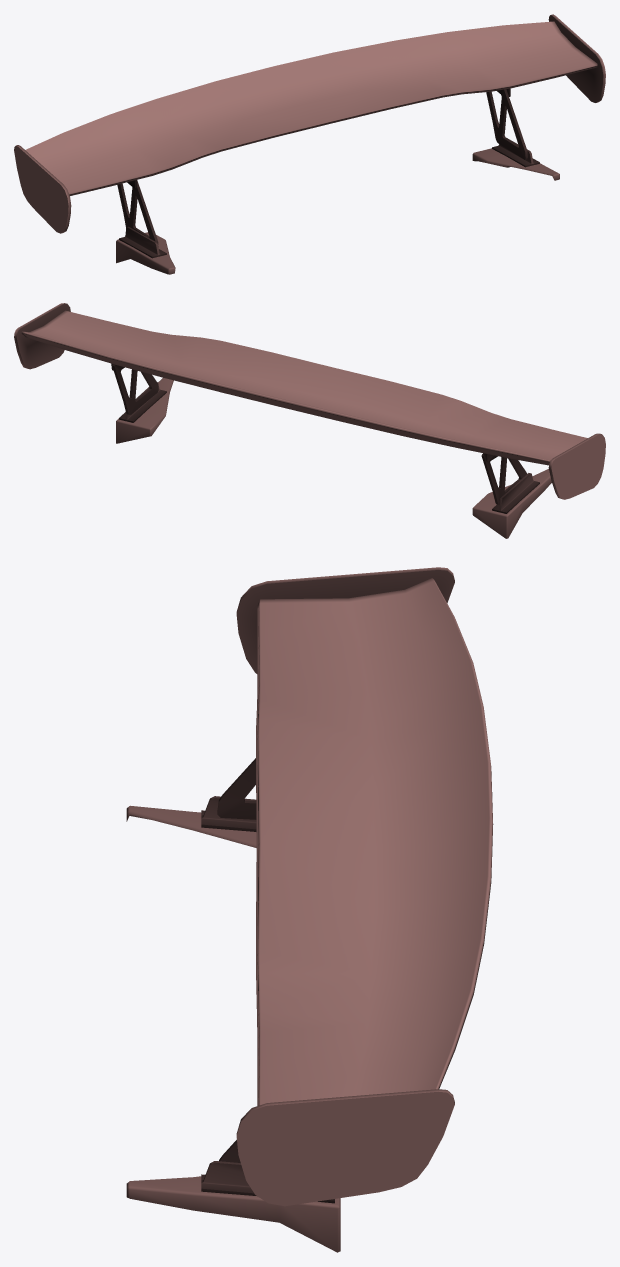
File: G37_Spoiler_06_Trim.fbx
The picture shows the model from 3 angles, top to bottom: view 1: azimuth 30°, elevation 25°; view 2: azimuth 150°, elevation 25°; view 3: azimuth 270°, elevation 25°; orthographic projection. The views are drawn at different scales.
Parts seen in each view (by area): view 1: G37_Spoiler_06_Trim; view 2: G37_Spoiler_06_Trim; view 3: G37_Spoiler_06_Trim.
Part boxes in pixels (box(x1,y1,x2,y2)): G37_Spoiler_06_Trim: box(14, 14, 605, 274); G37_Spoiler_06_Trim: box(14, 303, 605, 538); G37_Spoiler_06_Trim: box(126, 567, 493, 1252).
Bounding box in the file's own units: 165 × 35.77 × 48.84.
